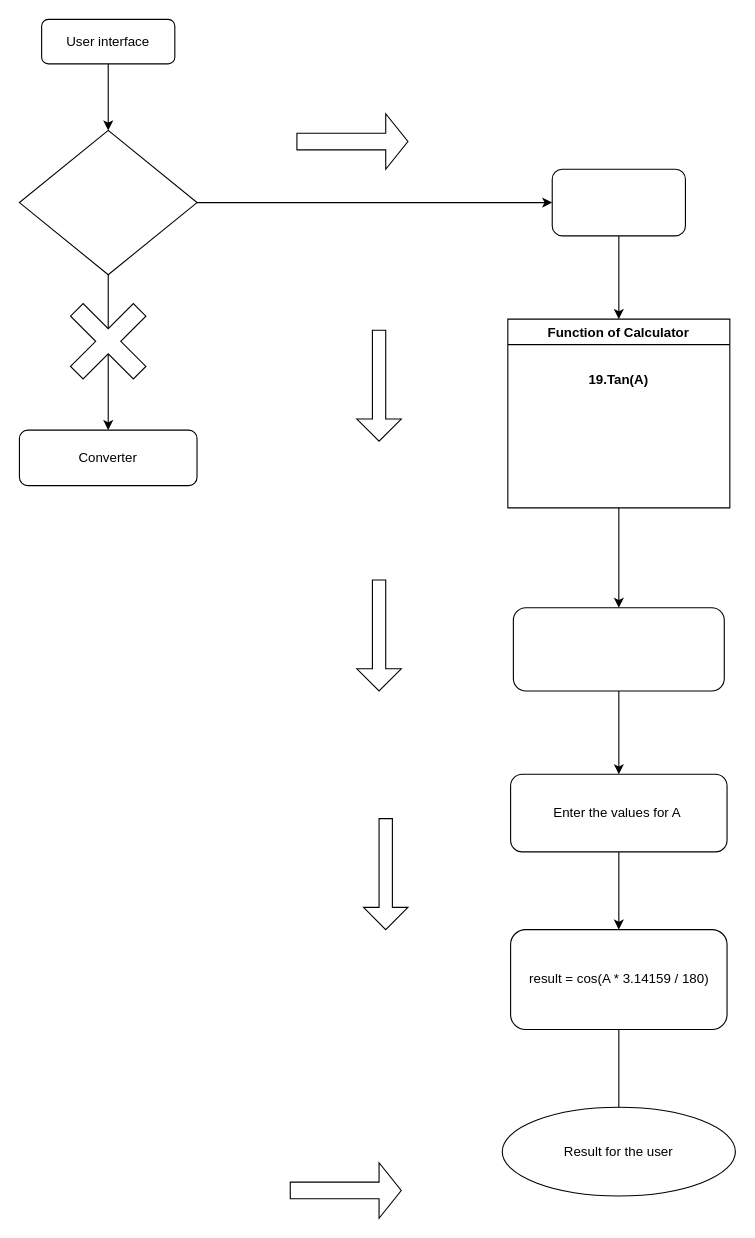
The diagram is 755 pixels wide and 1238 high, and some of its shapes have lost their labels. Each missing label, with the centre of its shape:
"Calculator" belongs at [618,202].
"Calculator /Converter" belongs at [107,202].
"Move to Selected Function Tan of (A)" belongs at [618,649].
